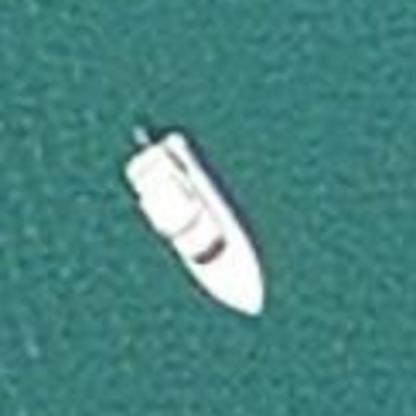ship: (100, 115, 279, 326)
